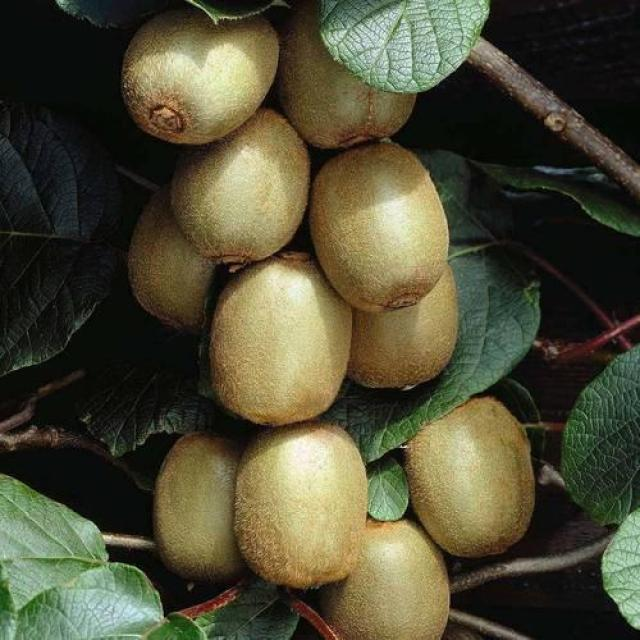kiwi: (198, 258, 366, 431), (305, 136, 465, 314), (164, 101, 324, 268), (260, 11, 433, 155), (394, 395, 541, 558), (234, 417, 371, 589), (118, 5, 287, 142), (309, 506, 460, 640), (342, 251, 470, 401), (124, 183, 238, 331), (151, 423, 253, 581)
